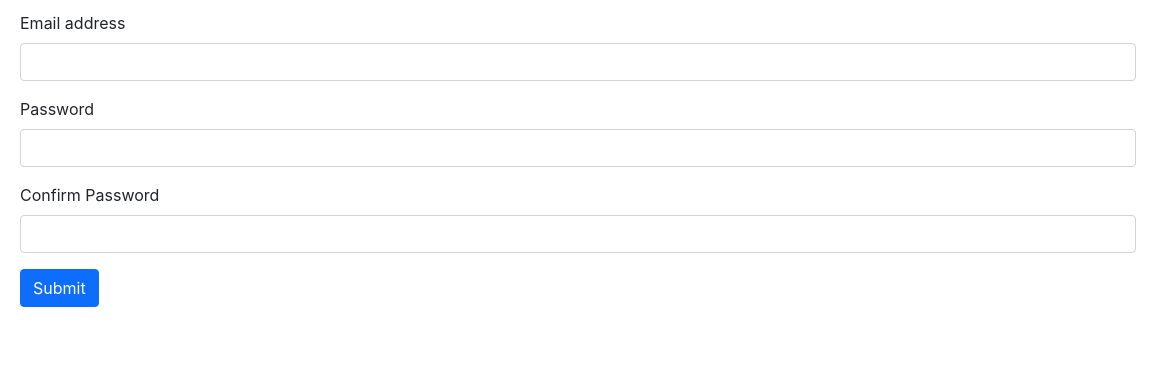
Test: App › Error handling › should show confirm password error message if passwords don't match
In the field labelled "Email address": (578,62) [20, 43, 1136, 81], type "valentina@gmail.com"
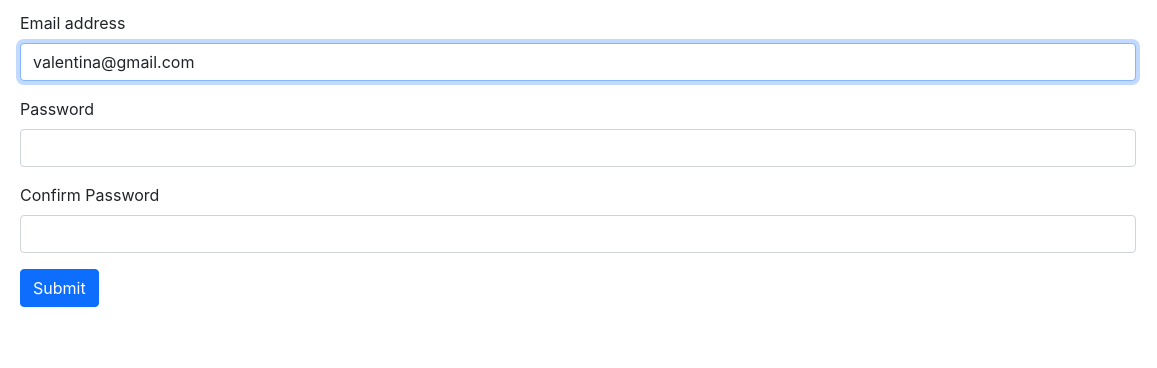
In the password field labelled "Password": (578,148) [20, 129, 1136, 167], type "mypassword"
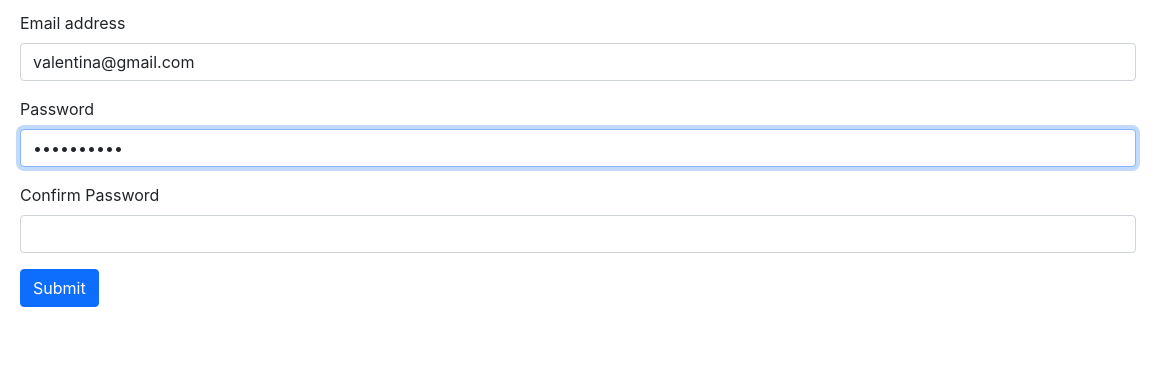
Expected: the text "the passwords don't match. try again" is not shown
In the password field labelled "Confirm Password": (578,234) [20, 215, 1136, 253], type "wrongpsw"
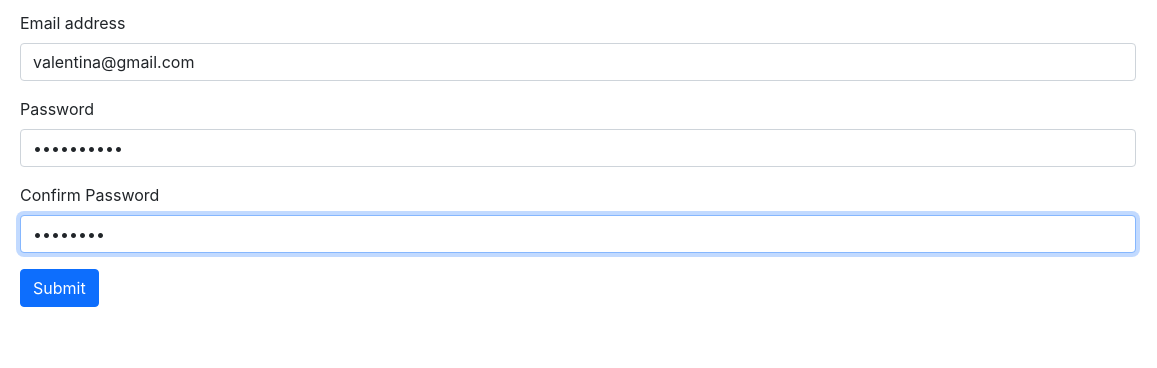
Click the button "Submit": (59,288) [20, 269, 99, 307]
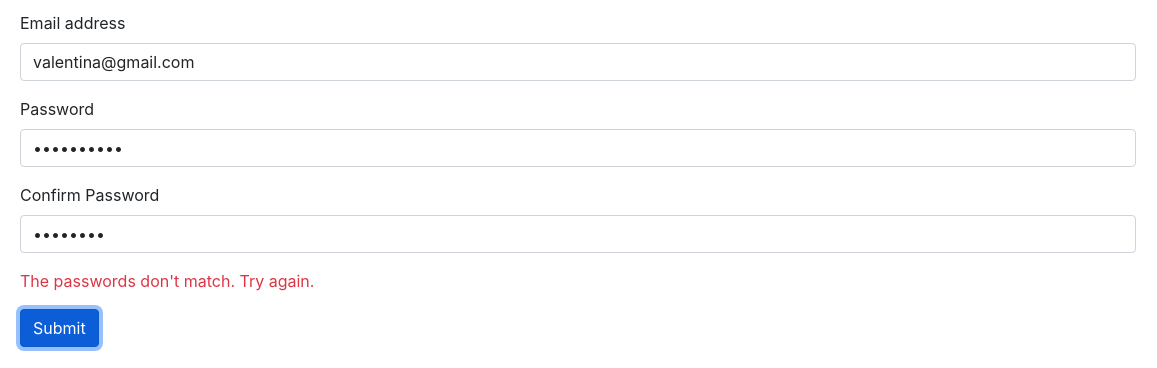
Expected: the text "The passwords don't match. Try again." is shown, [20, 271, 314, 291]
